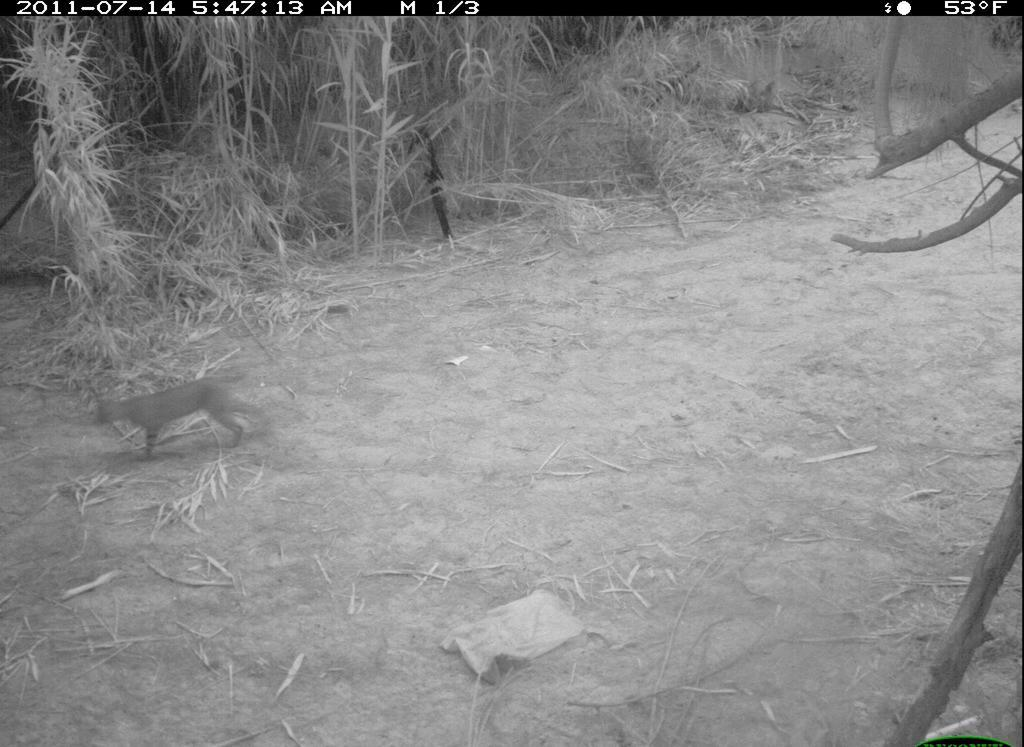bobcat: (91, 372, 271, 468)
